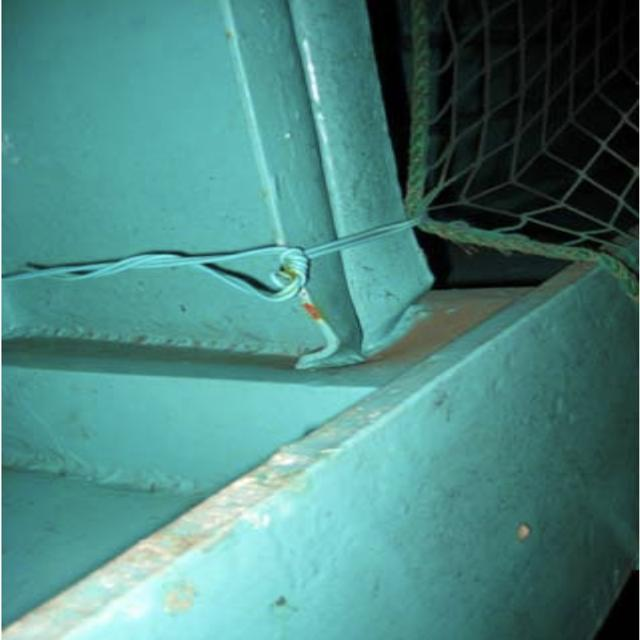corrosion: (240, 253, 413, 374)
